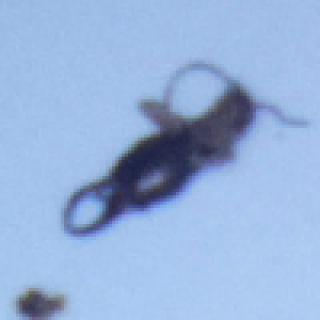earwig: (59, 56, 309, 237)
